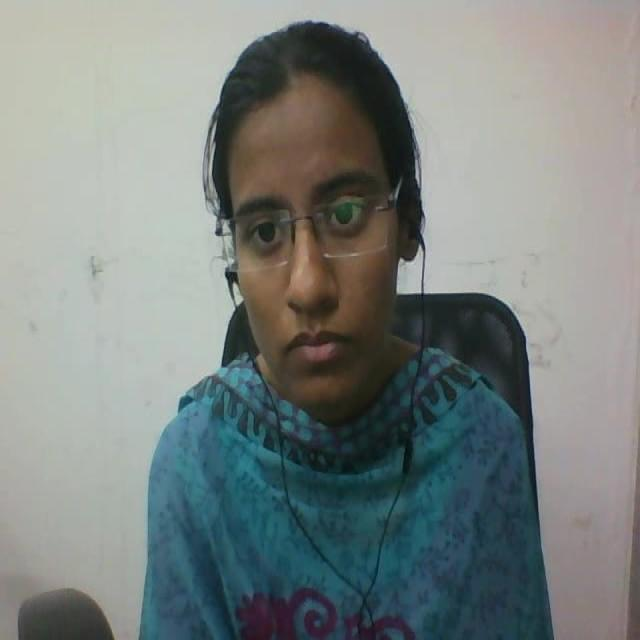Engaged: (193, 3, 450, 432)
